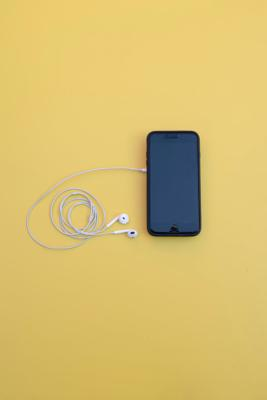Mobile Phone: (145, 129, 201, 236)
